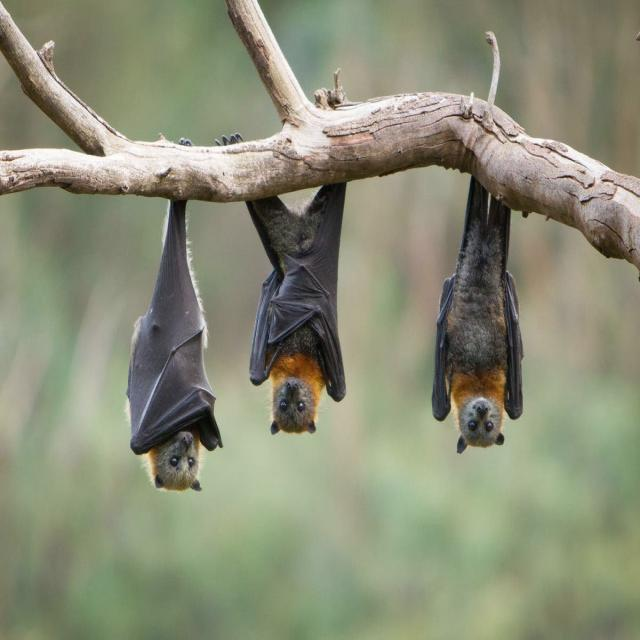bat: (127, 201, 222, 491), (432, 177, 523, 453), (246, 183, 346, 434)
